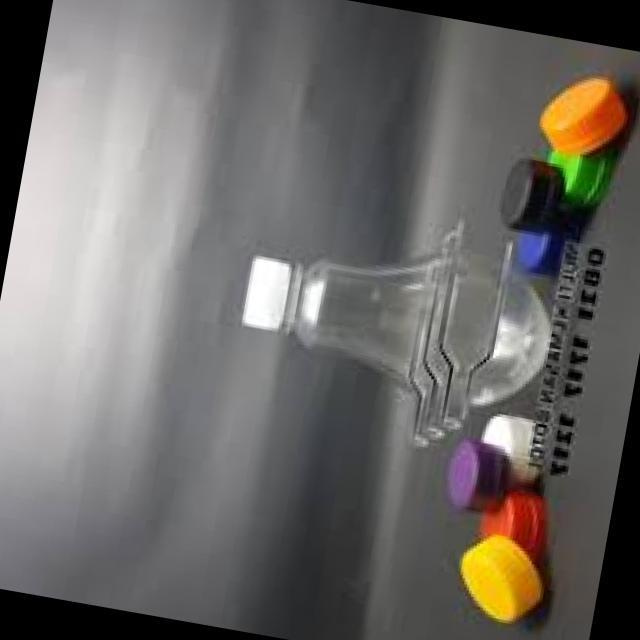good: (195, 183, 596, 452)
